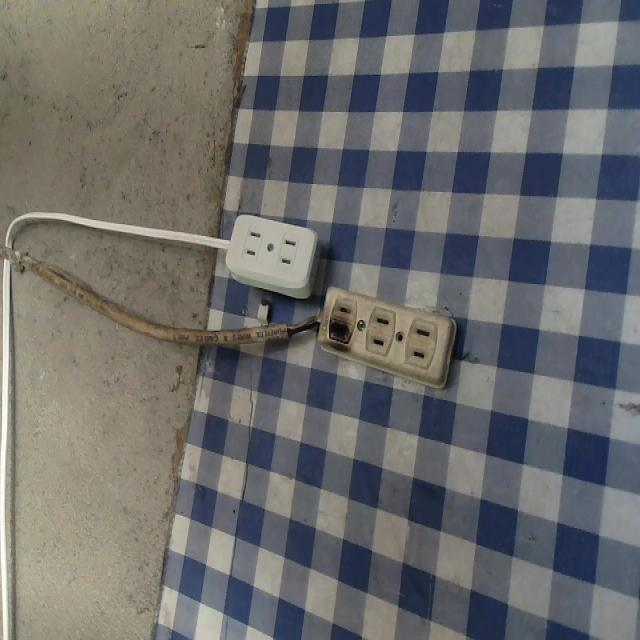-: (312, 309, 359, 347)
